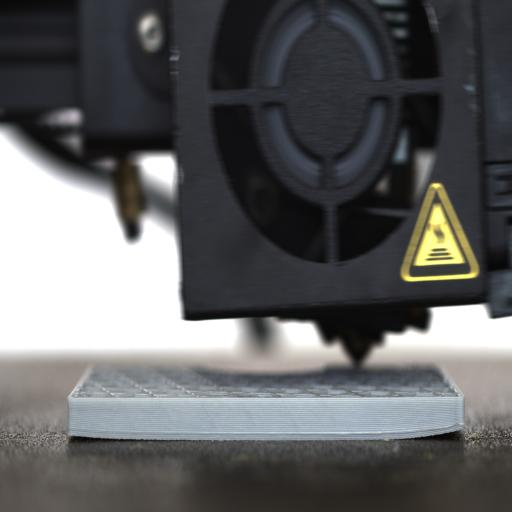warp: (404, 407, 476, 445), (61, 419, 107, 449)
